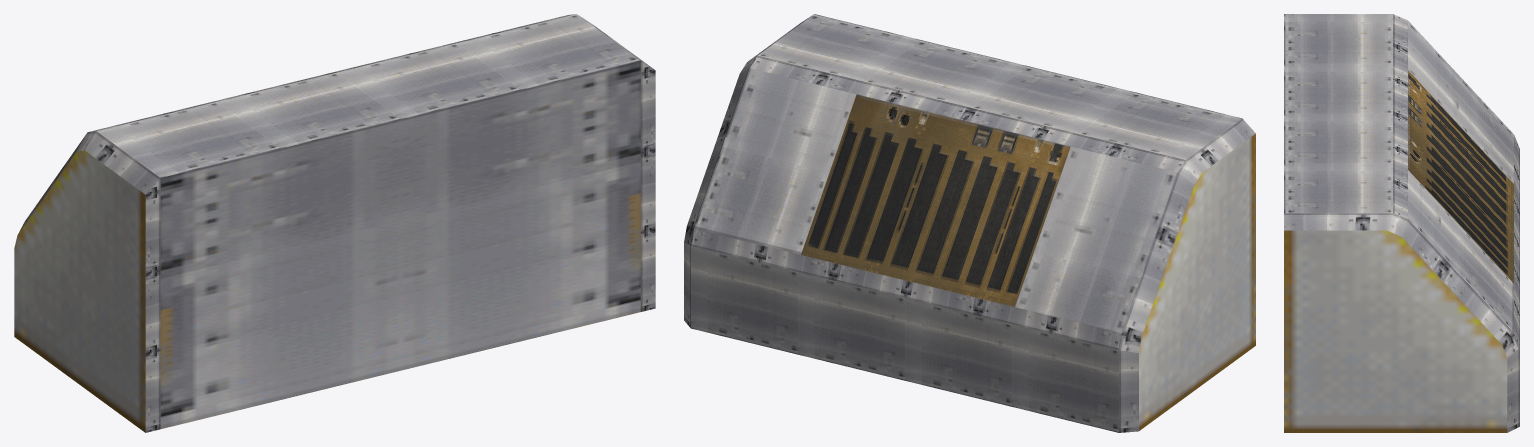
File: SpaceshipPart07.fbx
3 views of the same model, side by side, from view 1: azimuth 30°, elevation 25°; view 2: azimuth 150°, elevation 25°; view 3: azimuth 270°, elevation 25° (orthographic). The views are drawn at different scales.
Parts seen in each view (by area): view 1: SpaceshipPart07; view 2: SpaceshipPart07; view 3: SpaceshipPart07.
Boxes of the visible parts, left/top/right/bottom form: SpaceshipPart07: left=14, top=14, right=655, bottom=432; SpaceshipPart07: left=684, top=14, right=1255, bottom=432; SpaceshipPart07: left=1284, top=14, right=1519, bottom=432.
Size of the model in its own units: 212 by 100 by 100.
